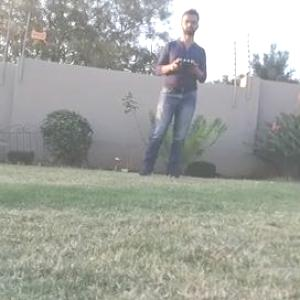follow: (132, 0, 211, 182)
